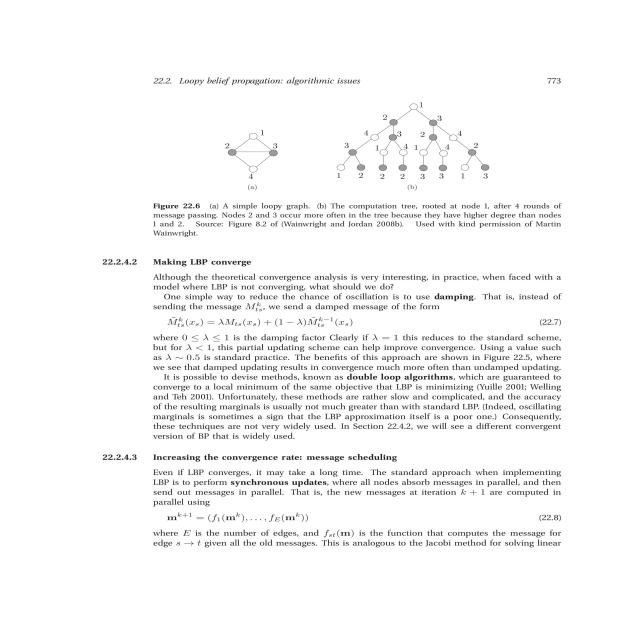diagram: (108, 95, 583, 252)
